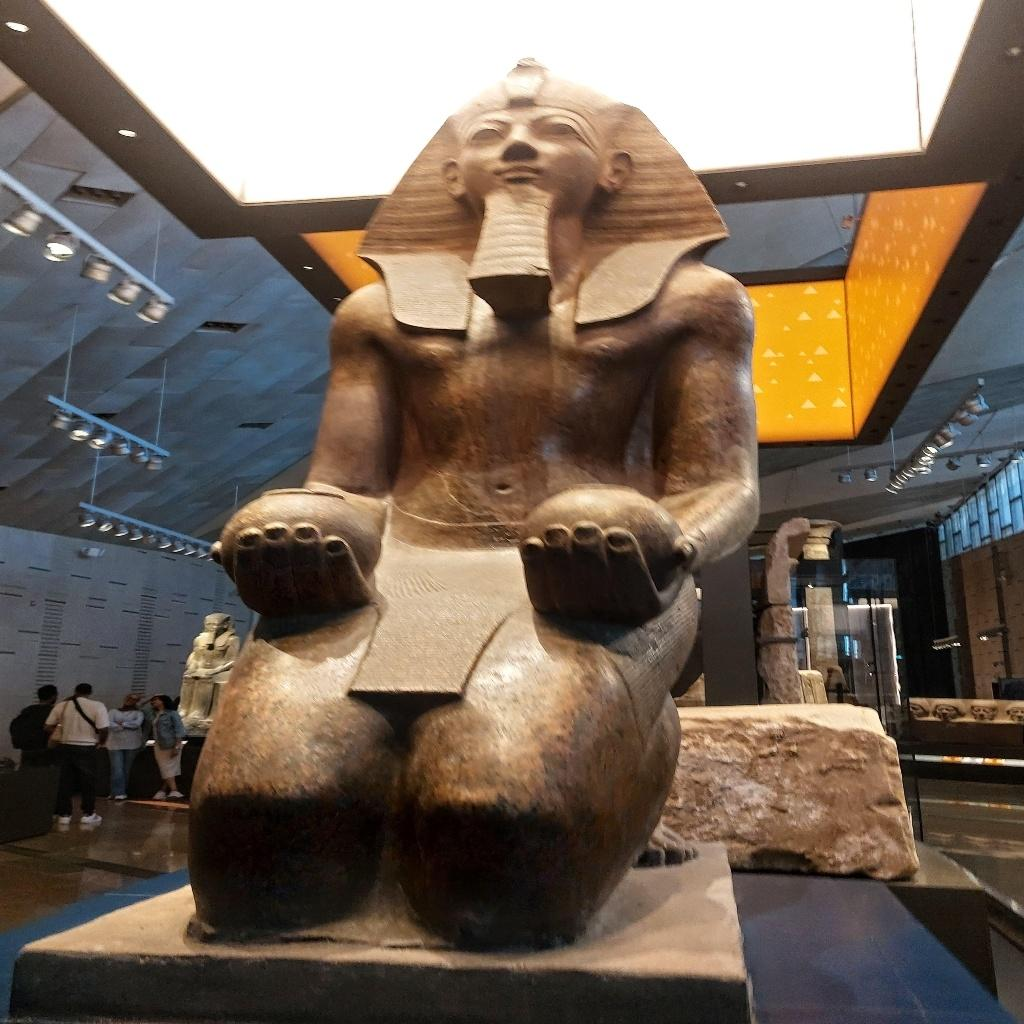kneeling statue of queen hatshibsut: (178, 52, 767, 956)
